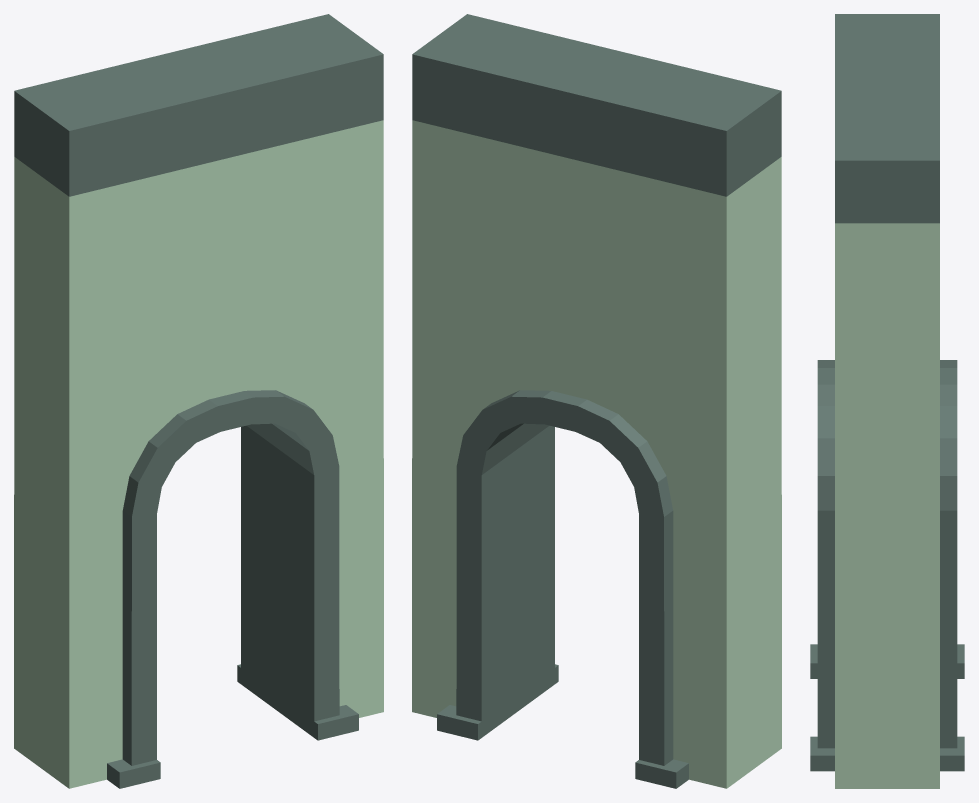
File: DoorArchWall.fbx
The picture shows the model from 3 angles, left to right: view 1: azimuth 30°, elevation 25°; view 2: azimuth 150°, elevation 25°; view 3: azimuth 270°, elevation 25°; orthographic projection. The views are drawn at different scales.
Parts seen in each view (by area): view 1: DoorArchWall; view 2: DoorArchWall; view 3: DoorArchWall.
Boxes of the visible parts, bbox=[...] form: DoorArchWall: bbox=[14, 14, 383, 788]; DoorArchWall: bbox=[412, 14, 781, 788]; DoorArchWall: bbox=[810, 14, 964, 788].
Size of the model in its own units: 2 by 4 by 0.8891.
